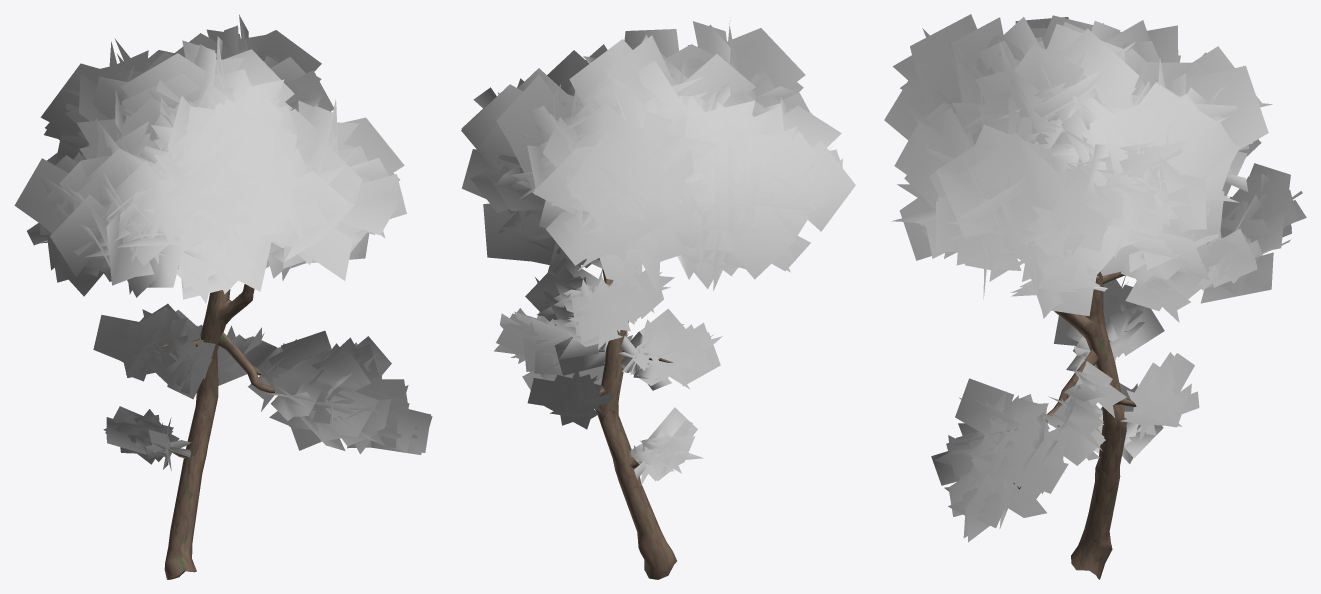
Rendered from SM_EastLands_Conifer_Multi_01_Trunk_B.fbx.
3 views of the same model, side by side, from view 1: azimuth 30°, elevation 25°; view 2: azimuth 150°, elevation 25°; view 3: azimuth 270°, elevation 25° (orthographic). The views are drawn at different scales.
Parts seen in each view (by area): view 1: SM_EastLands_Conifer_Multi_01_Trunk_B_LOD0; view 2: SM_EastLands_Conifer_Multi_01_Trunk_B_LOD0; view 3: SM_EastLands_Conifer_Multi_01_Trunk_B_LOD0.
Part boxes in pixels (x1=…): SM_EastLands_Conifer_Multi_01_Trunk_B_LOD0: x1=14, y1=14, x2=432, y2=579; SM_EastLands_Conifer_Multi_01_Trunk_B_LOD0: x1=461, y1=17, x2=855, y2=579; SM_EastLands_Conifer_Multi_01_Trunk_B_LOD0: x1=884, y1=14, x2=1306, y2=579.
Bounding box in the file's own units: 1612 × 2265 × 1526.
